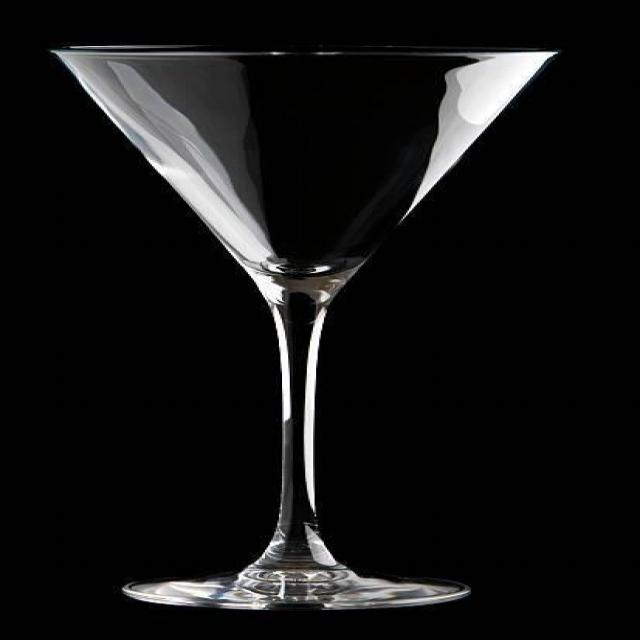glass-wine: (47, 37, 570, 610)
